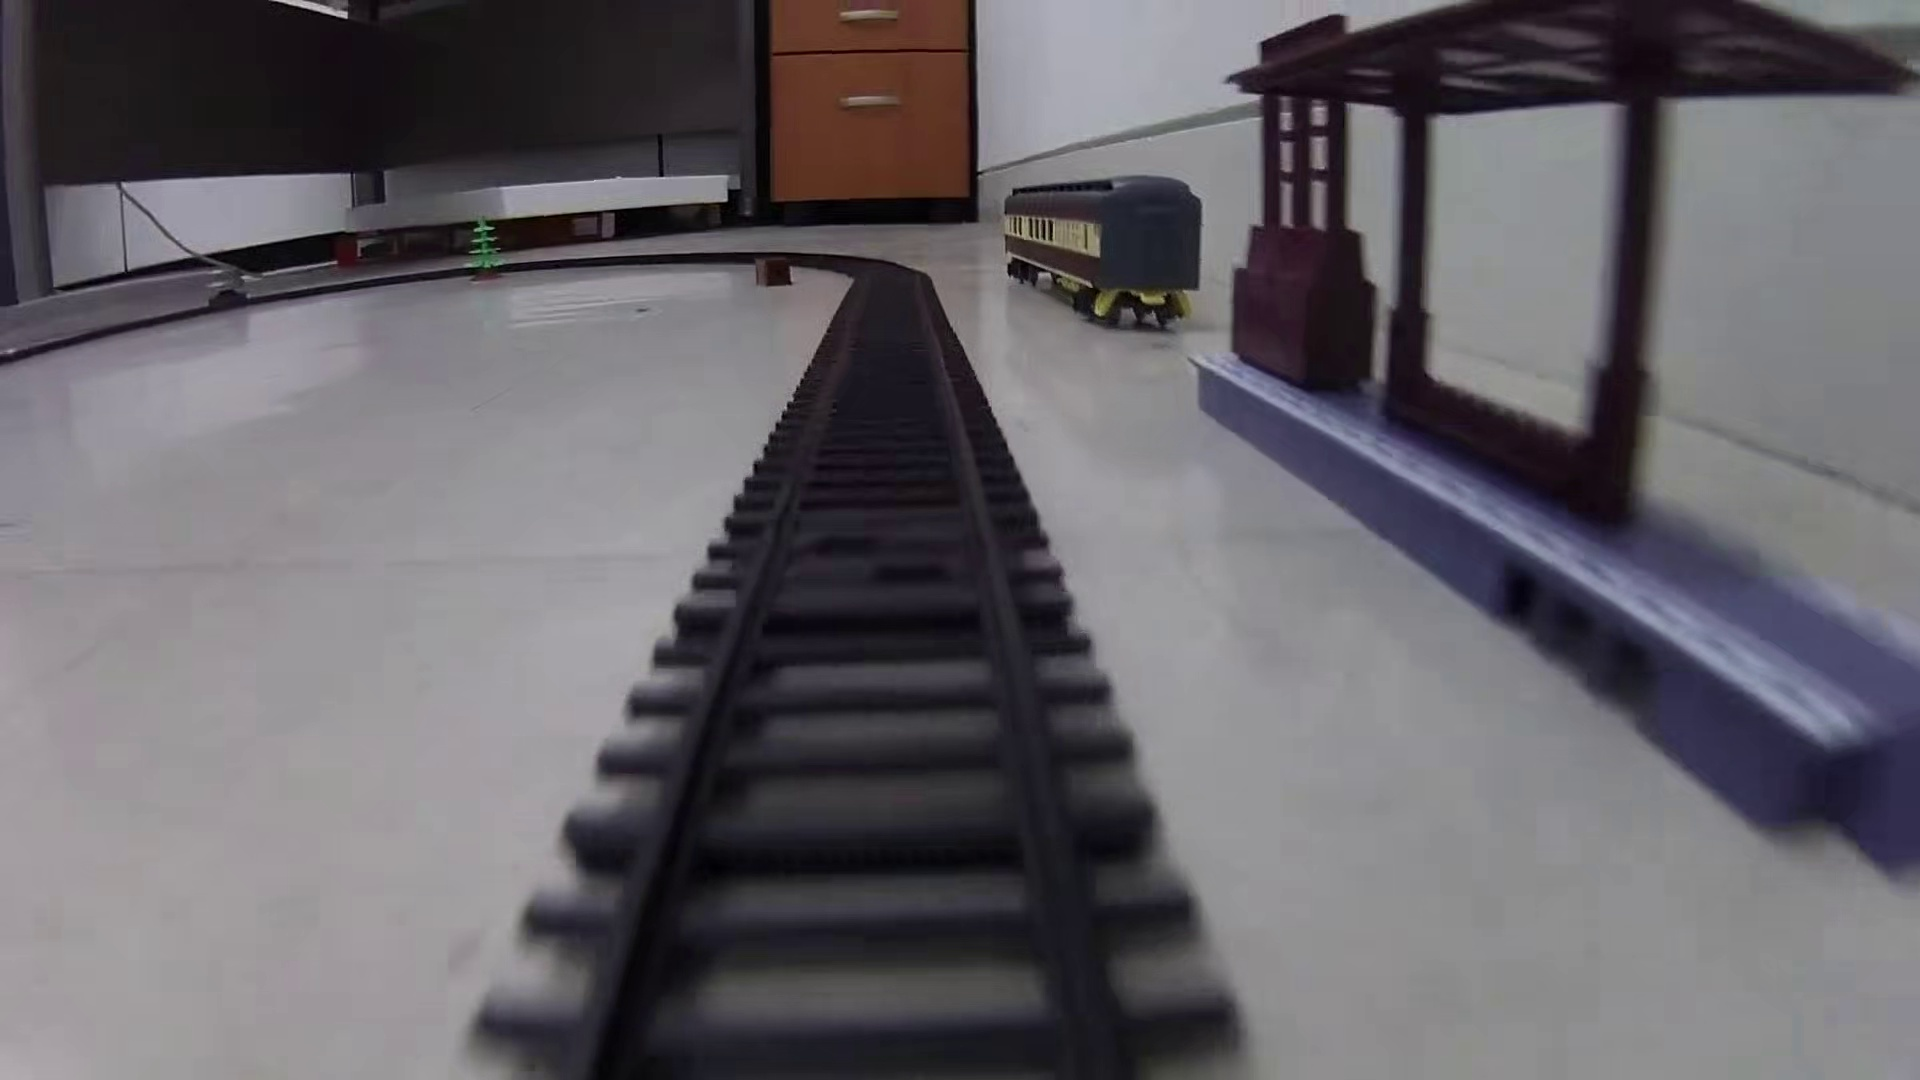box: (751, 253, 797, 290)
tree: (466, 214, 508, 284)
